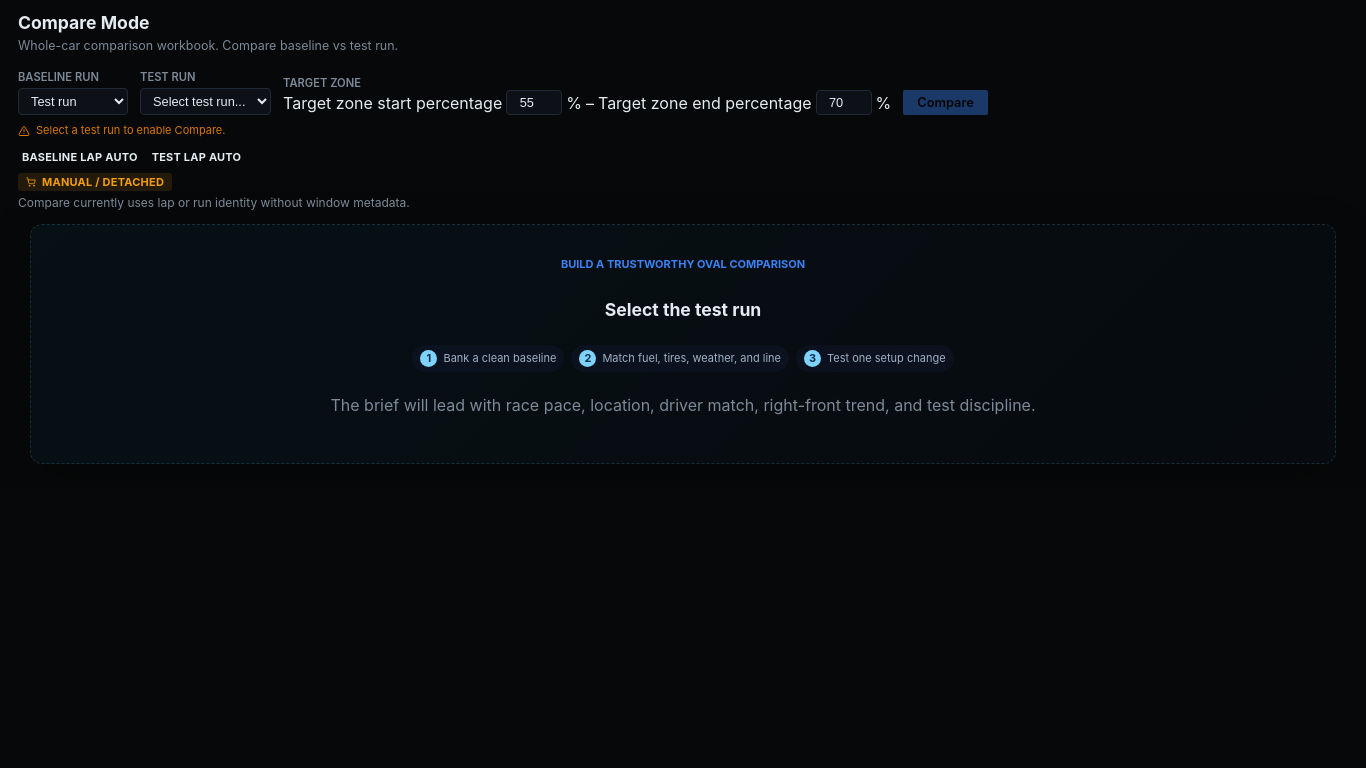
it: CompareTab interaction boundaries › fails closed when the test run case is from another session
Select "Baseline run" in the dropdown labelled "Baseline Run": [73, 102] box [18,88,128,116]
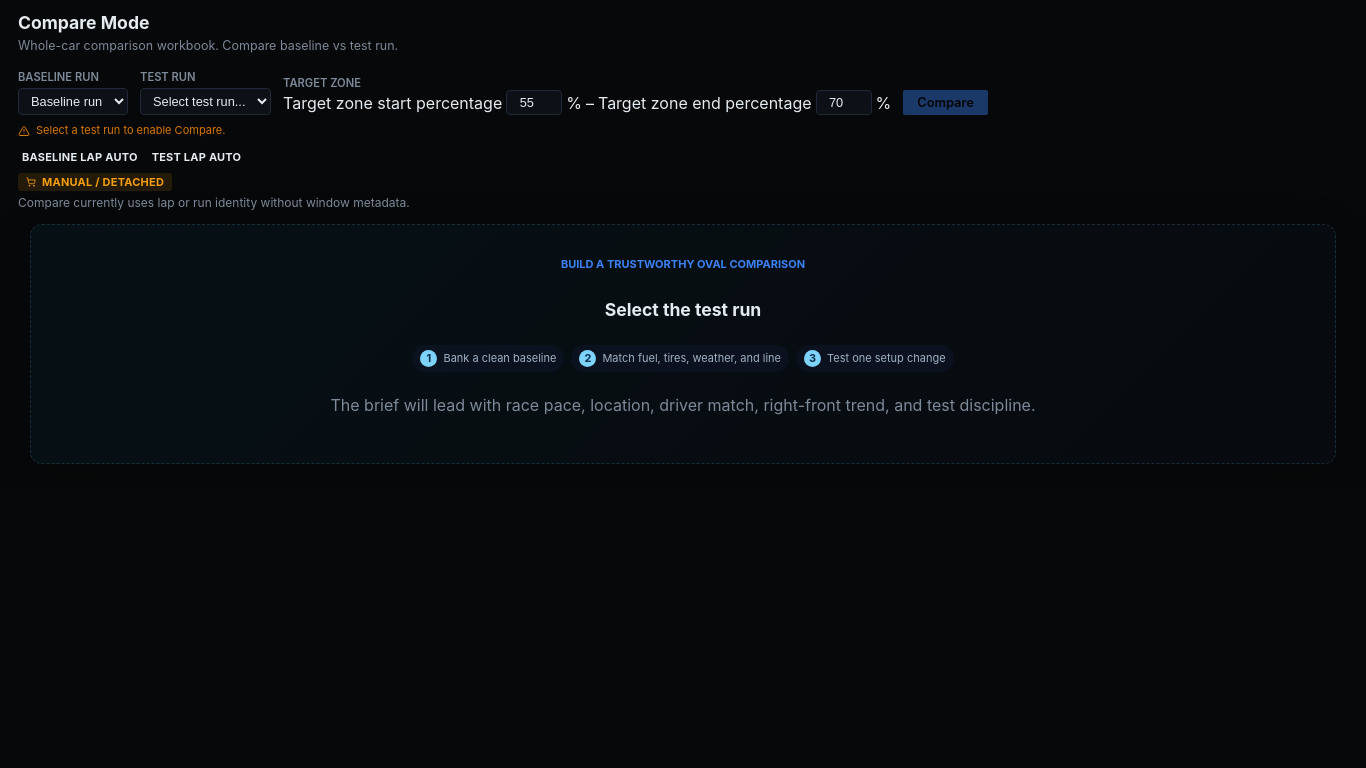
Select "Test run" in the dropdown labelled "Test Run": [206, 102] box [140,88,271,116]
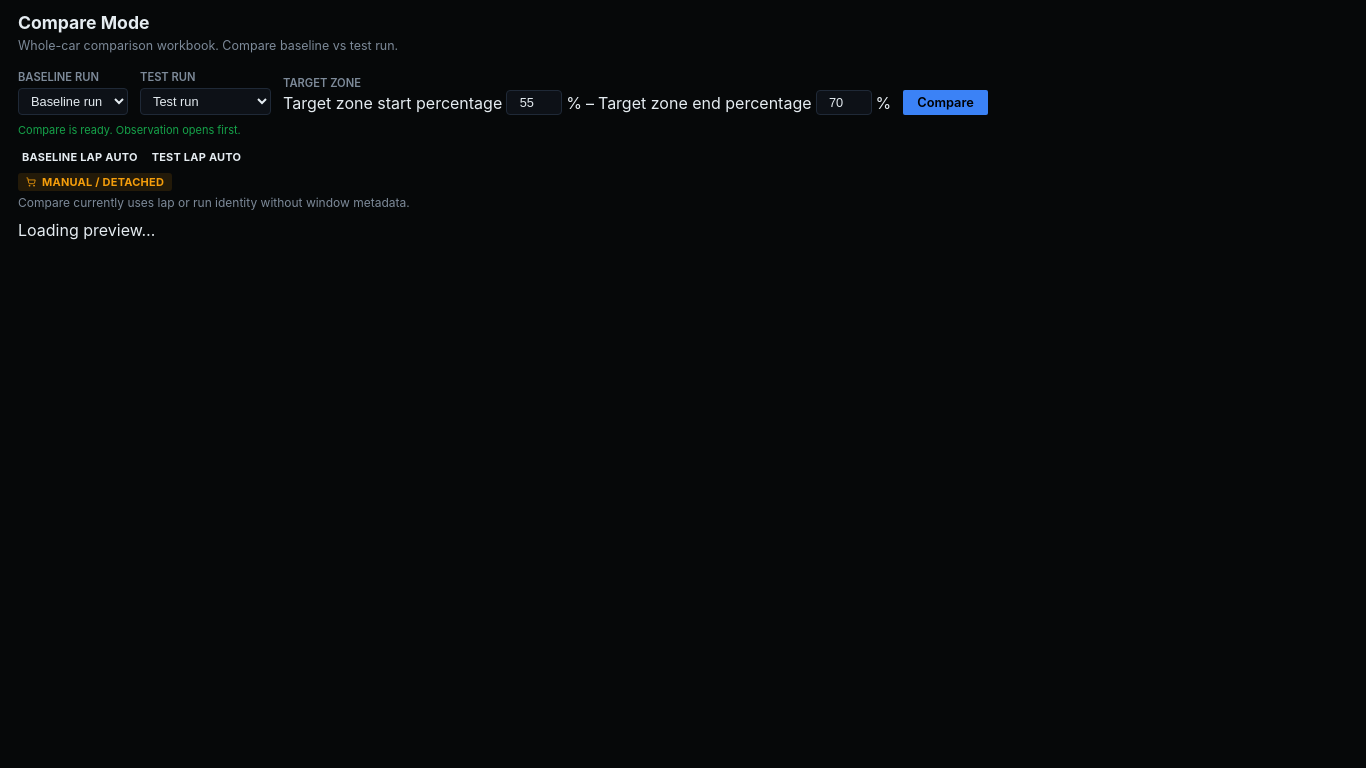
Click the button "Compare": [946, 103] box [903,90,988,116]
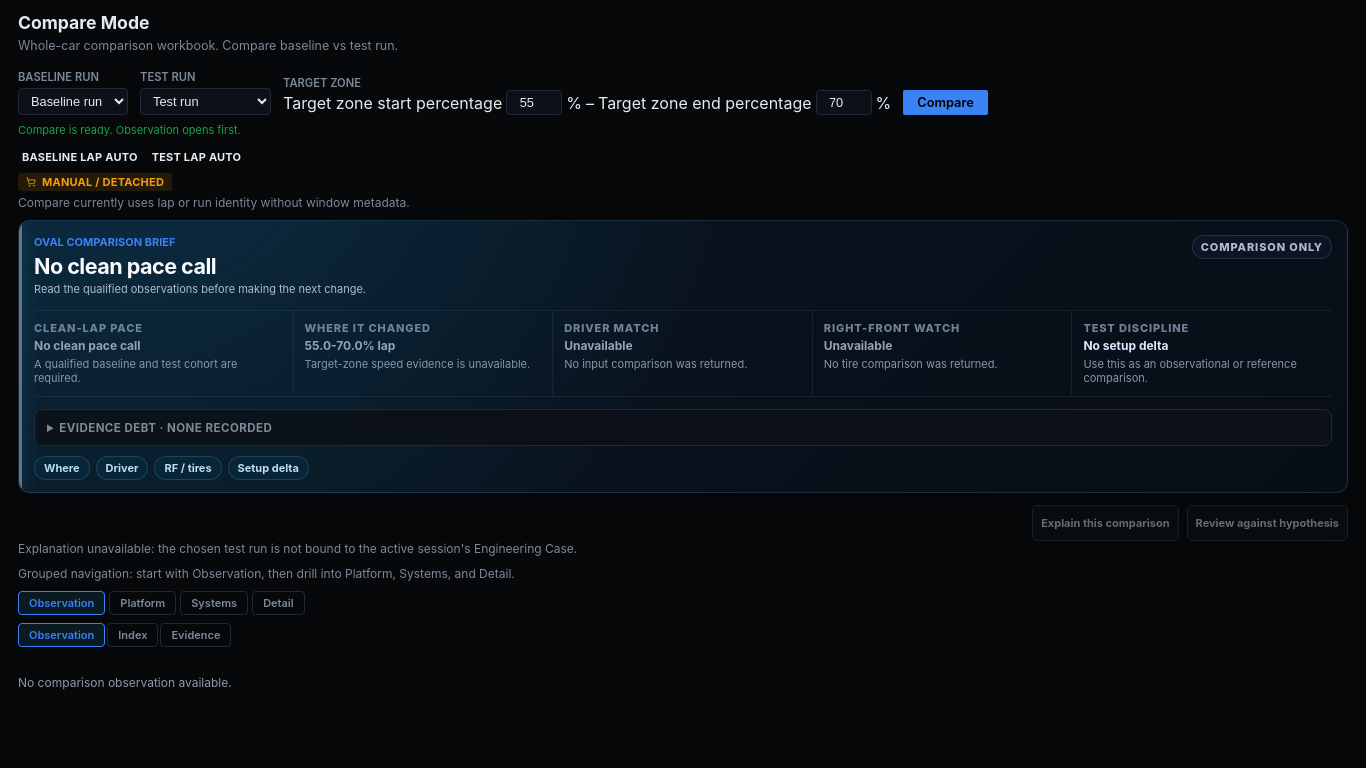
Expected: the button "Explain this comparison" is disabled, [1032,505,1178,541]
Expected: the text "Explanation unavailable: the chosen test run is not bound to the active session's Engineering Case." is shown, [18,541,577,556]
